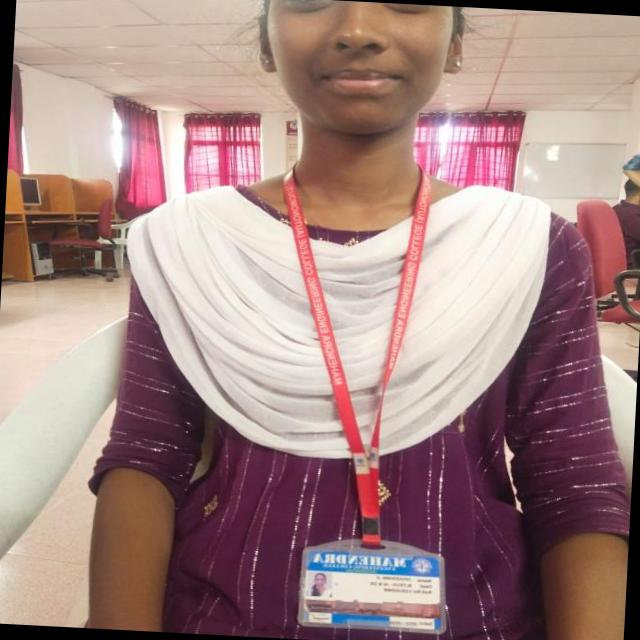id_card: (262, 162, 471, 640)
